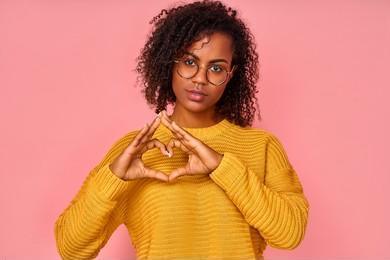face: (174, 40, 230, 111)
